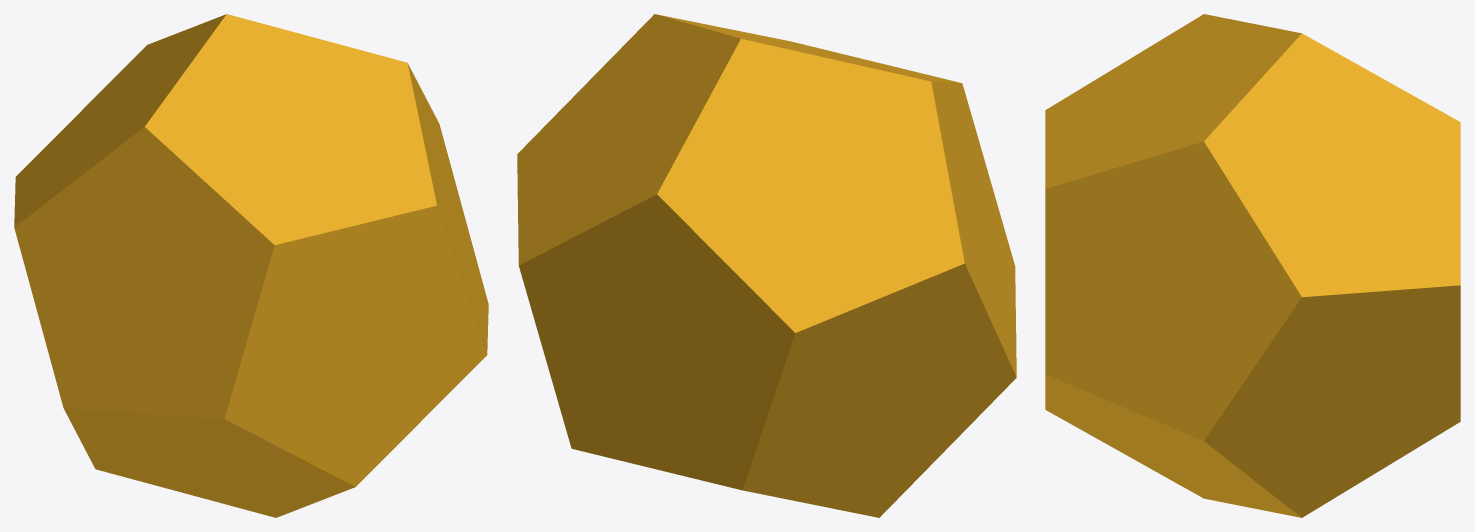
Rendered from DodecaedroDario.fbx.
3 renders of one model, left to right at view 1: azimuth 30°, elevation 25°; view 2: azimuth 150°, elevation 25°; view 3: azimuth 270°, elevation 25°, orthographic. The views are drawn at different scales.
Visible parts, largest first — view 1: Body10; view 2: Body10; view 3: Body10.
Boxes of the visible parts, bbox=[...] form: Body10: bbox=[14, 14, 488, 517]; Body10: bbox=[517, 14, 1016, 517]; Body10: bbox=[1045, 14, 1460, 517].
Bounding box in the file's own units: 78.54 × 82.58 × 66.81.
